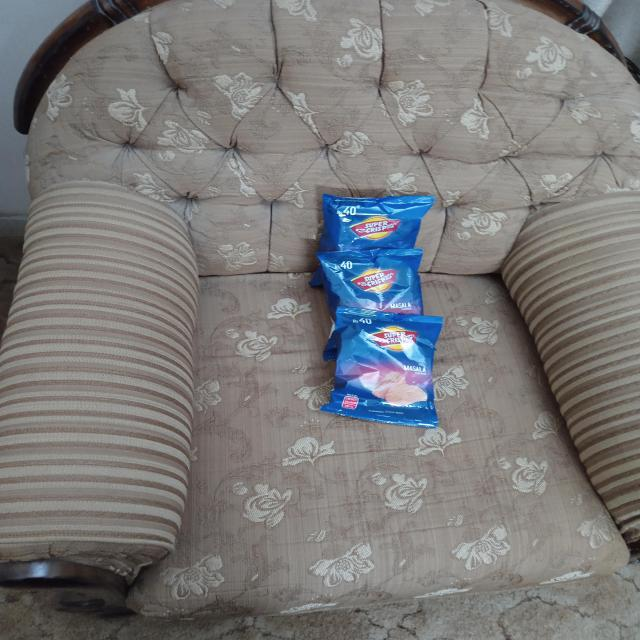Plastic: (330, 314, 435, 423), (321, 197, 428, 252), (322, 255, 420, 312)
